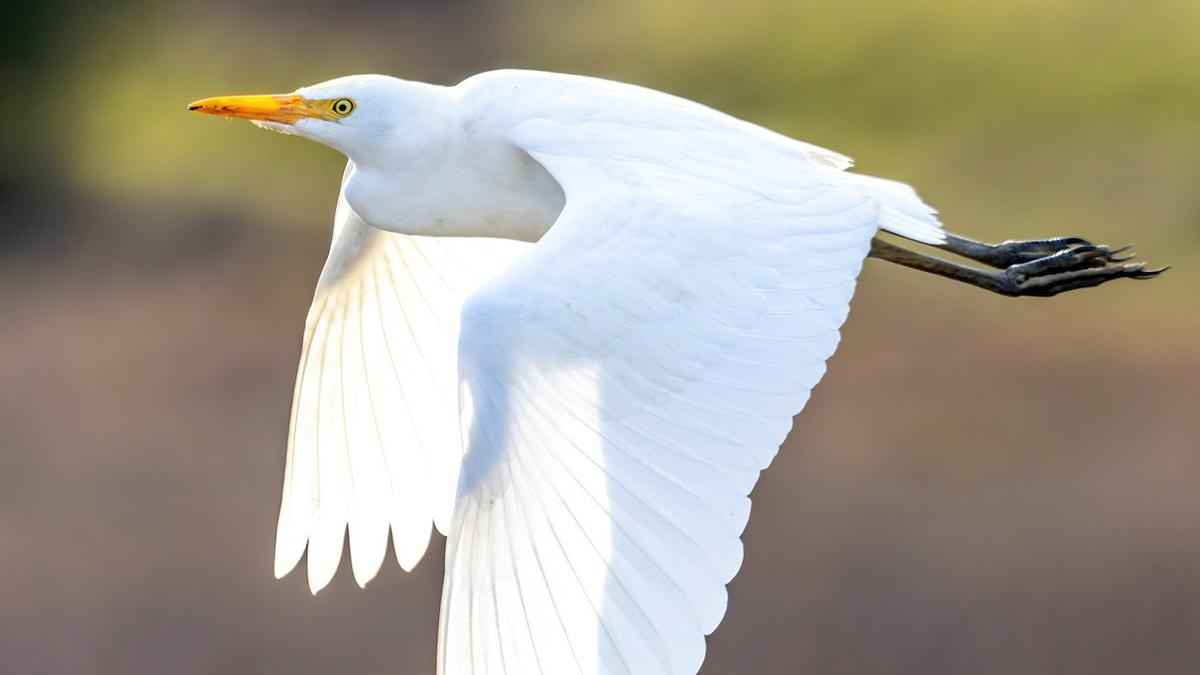egret: (190, 53, 1185, 624)
